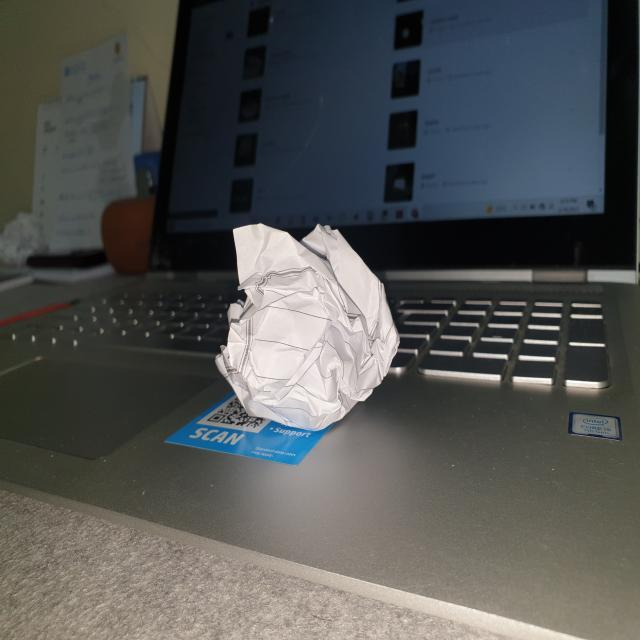Paper: (218, 224, 399, 426)
